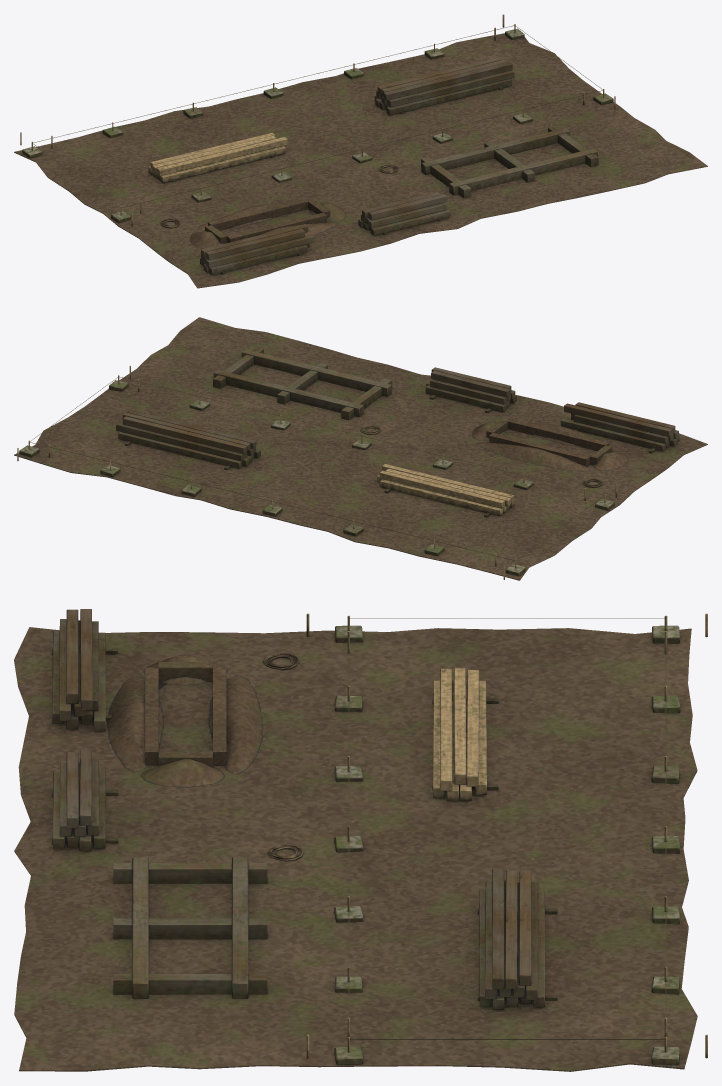
The model's file is siege_workshop_build1.glb.
The picture shows the model from 3 angles, top to bottom: view 1: azimuth 30°, elevation 25°; view 2: azimuth 150°, elevation 25°; view 3: azimuth 270°, elevation 25°; orthographic projection. The views are drawn at different scales.
Parts seen in each view (by area): view 1: siege_workshop_build1_LOD0; view 2: siege_workshop_build1_LOD0; view 3: siege_workshop_build1_LOD0.
Part boxes in pixels (x1,y1,x2,y2): siege_workshop_build1_LOD0: (14, 14, 707, 288); siege_workshop_build1_LOD0: (14, 317, 707, 580); siege_workshop_build1_LOD0: (14, 609, 707, 1071).
Size of what is drawn, in the model's own units: 23.18 by 0.92 by 15.32.
Materials: 1 (1 with a texture image).
